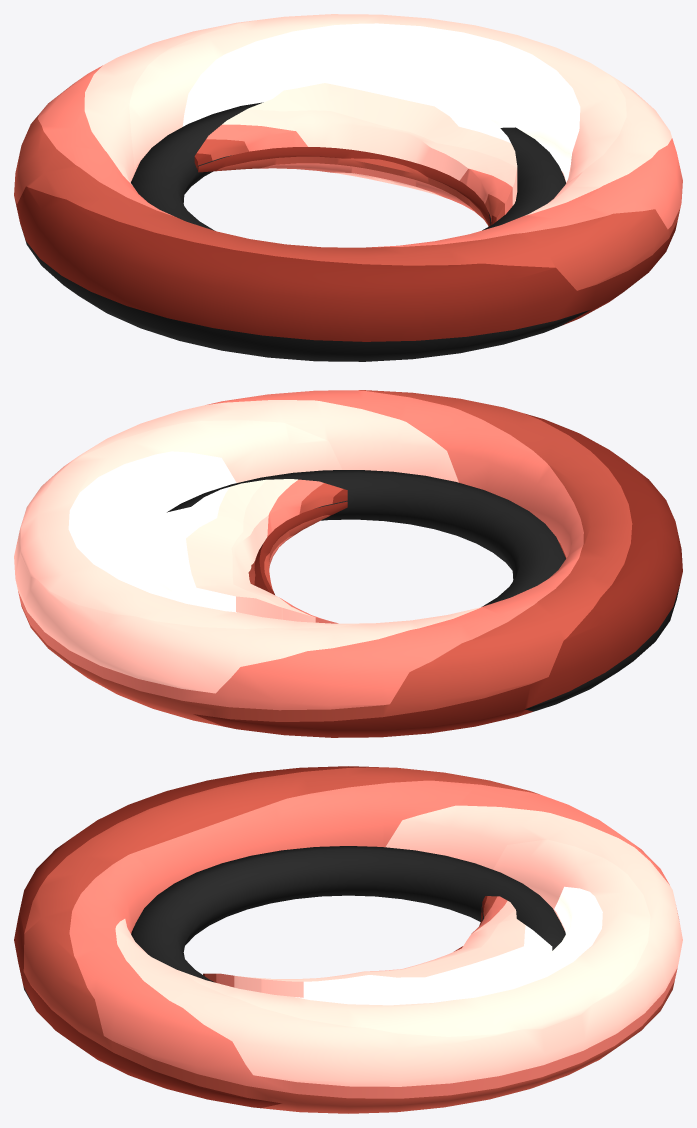
The model's file is pulse_ring_95.glb.
3 views of the same model, one above another, from view 1: azimuth 30°, elevation 25°; view 2: azimuth 150°, elevation 25°; view 3: azimuth 270°, elevation 25° (orthographic).
Parts seen in each view (by area): view 1: pulse_ring_95_band, pulse_ring_95_crescent, pulse_ring_95_lip; view 2: pulse_ring_95_band, pulse_ring_95_crescent, pulse_ring_95_lip; view 3: pulse_ring_95_band, pulse_ring_95_lip, pulse_ring_95_crescent.
Boxes of the visible parts, <box> form: pulse_ring_95_band: <box>14,14,682,361</box>; pulse_ring_95_crescent: <box>194,63,517,226</box>; pulse_ring_95_lip: <box>131,102,565,230</box>; pulse_ring_95_band: <box>14,390,682,737</box>; pulse_ring_95_crescent: <box>127,479,347,623</box>; pulse_ring_95_lip: <box>167,470,565,606</box>; pulse_ring_95_band: <box>14,766,682,1113</box>; pulse_ring_95_lip: <box>131,846,565,982</box>; pulse_ring_95_crescent: <box>203,896,552,999</box>.
Size of the model in its own units: 12.1 by 1.9 by 12.1.
